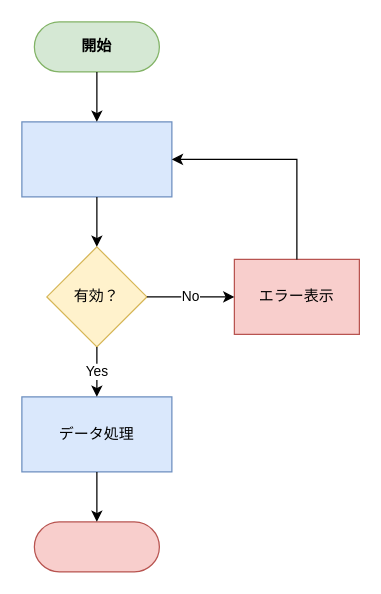
The diagram is 381 pixels wide and 594 high, and some of its shapes have lost their labels. The shapes that lost their labels are listed below. From the top down, each one's centre as x and y in pixels, then its label:
At pixel 96 159: "データ入力".
At pixel 96 546: "終了".
